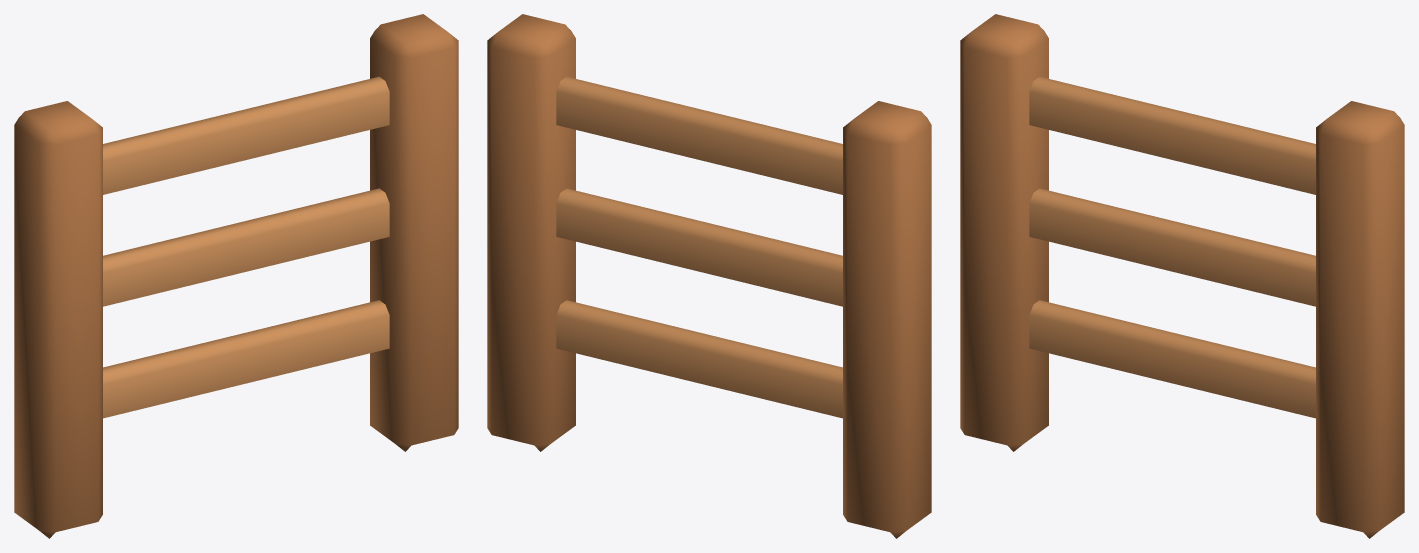
File: fence_wood_1m.glb
The picture shows the model from 3 angles, left to right: view 1: azimuth 30°, elevation 25°; view 2: azimuth 150°, elevation 25°; view 3: azimuth 330°, elevation 25°; orthographic projection.
Parts seen in each view (by area): view 1: fence_wood_1m; view 2: fence_wood_1m; view 3: fence_wood_1m.
Boxes of the visible parts, box(x1,y1,x2,y2) form: fence_wood_1m: box(14, 14, 458, 538); fence_wood_1m: box(487, 14, 931, 538); fence_wood_1m: box(960, 14, 1404, 538).
Bounding box in the file's own units: 1.18 × 1.1 × 0.18.
Materials: 1 (1 with a texture image).
